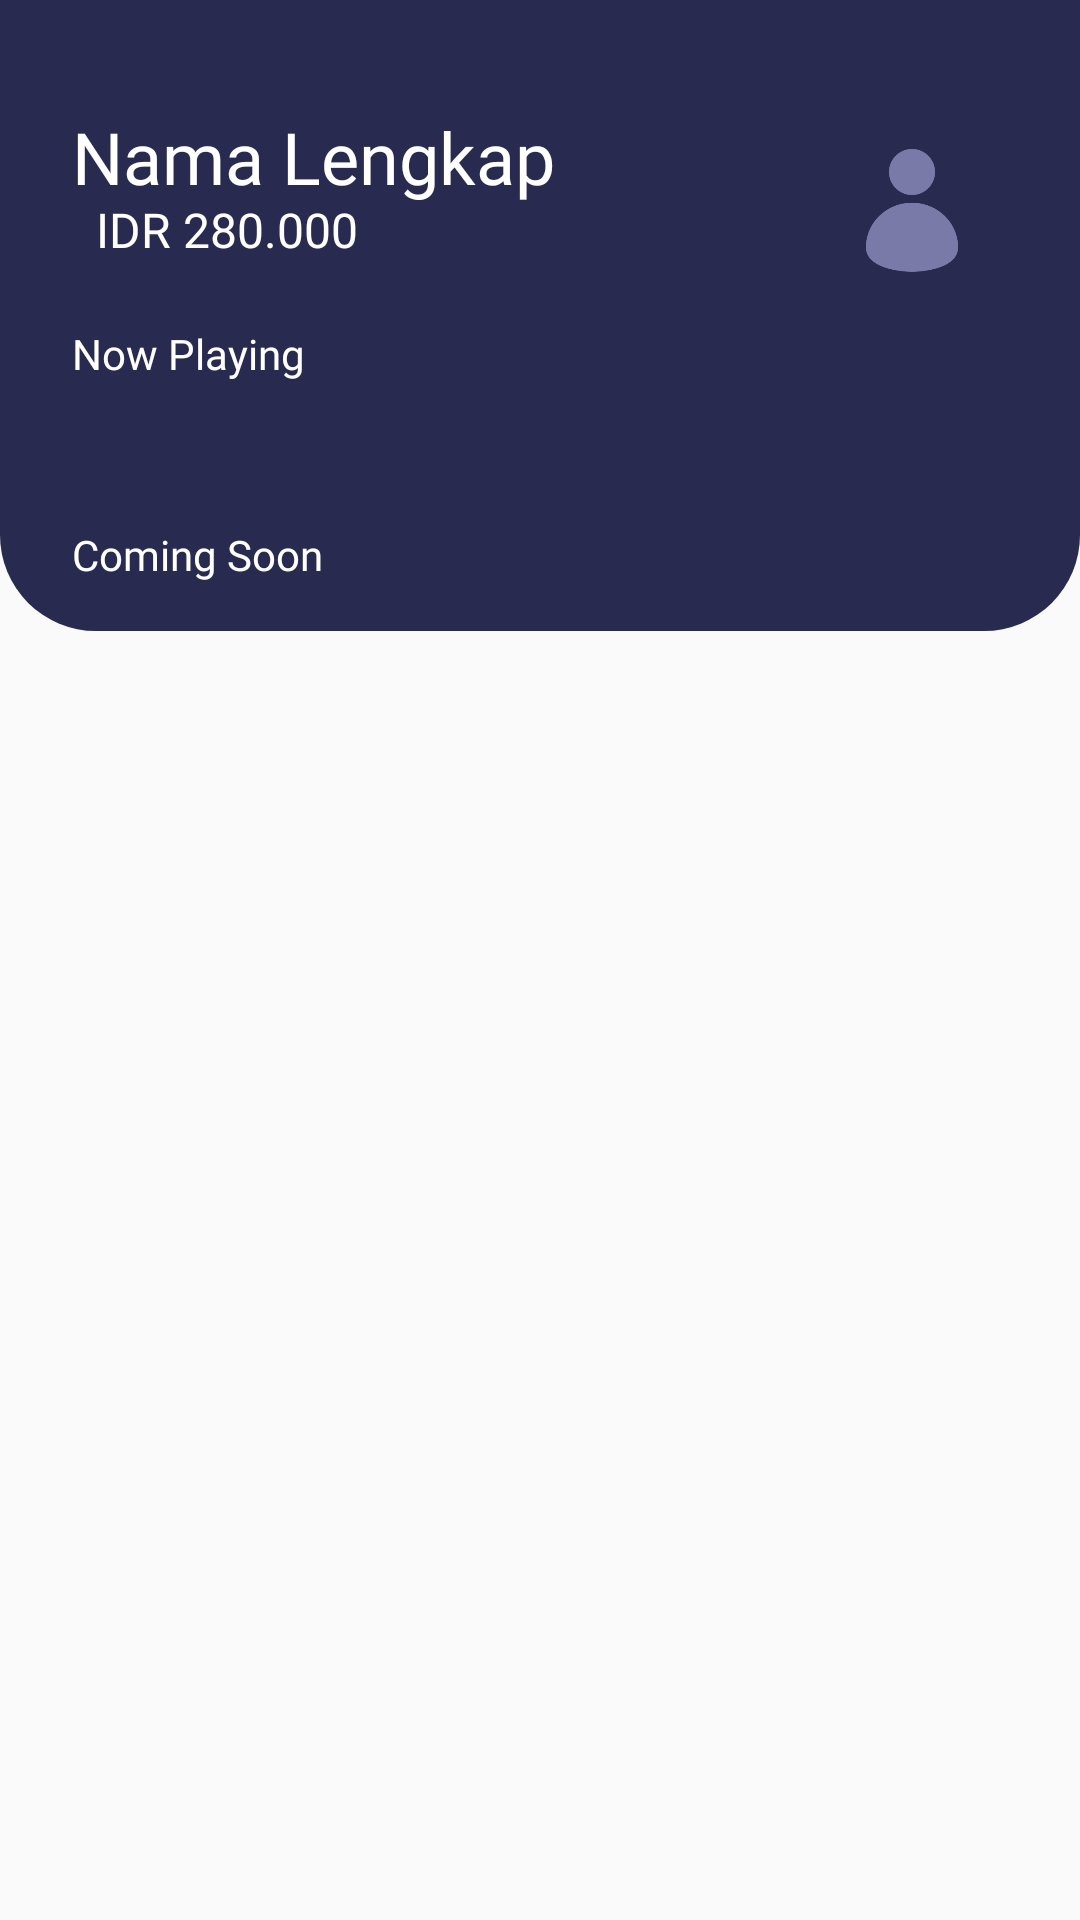

Icons on this 1080 × 1920 Android screen, each with the point to tap as (x,y):
user pic: (912,210)
